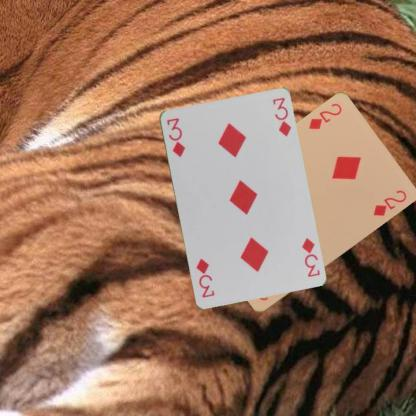2d: (306, 101, 343, 131)
3d: (164, 115, 186, 158), (298, 235, 320, 278)
